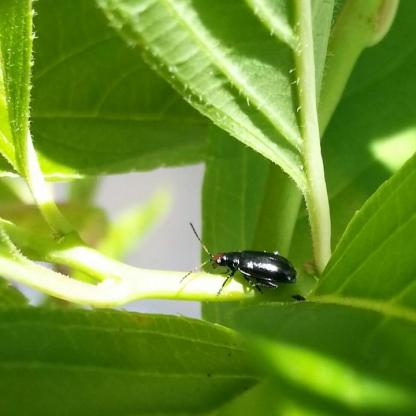beetle: (179, 218, 301, 314)
